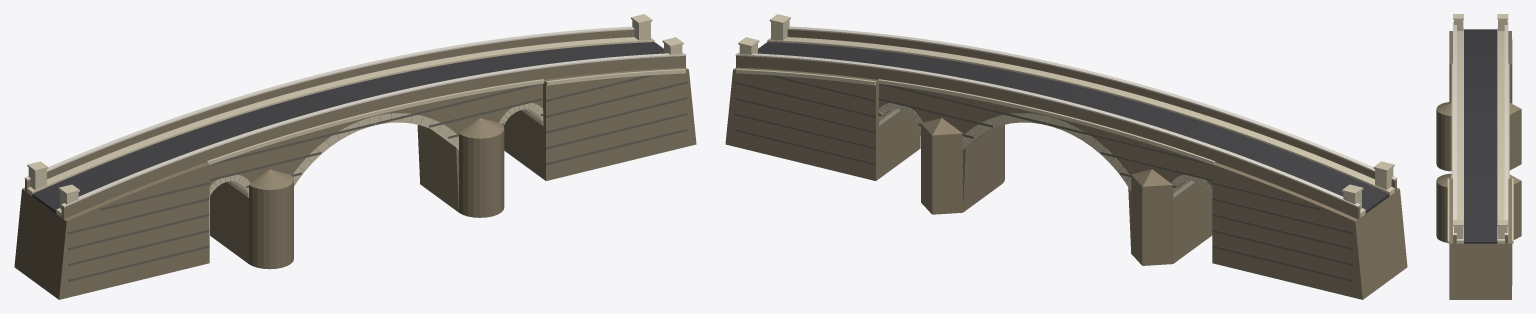
The model's file is rome_pons_cestius.glb.
3 renders of one model, left to right at view 1: azimuth 30°, elevation 25°; view 2: azimuth 150°, elevation 25°; view 3: azimuth 270°, elevation 25°, orthographic. The views are drawn at different scales.
Visible parts, largest first — view 1: rome_pons_cestius; view 2: rome_pons_cestius; view 3: rome_pons_cestius.
Part boxes in pixels (x1=…): rome_pons_cestius: x1=14, y1=14, x2=696, y2=299; rome_pons_cestius: x1=725, y1=14, x2=1407, y2=299; rome_pons_cestius: x1=1436, y1=14, x2=1521, y2=299.
Bounding box in the file's own units: 75.8 × 15.3 × 12.5.
